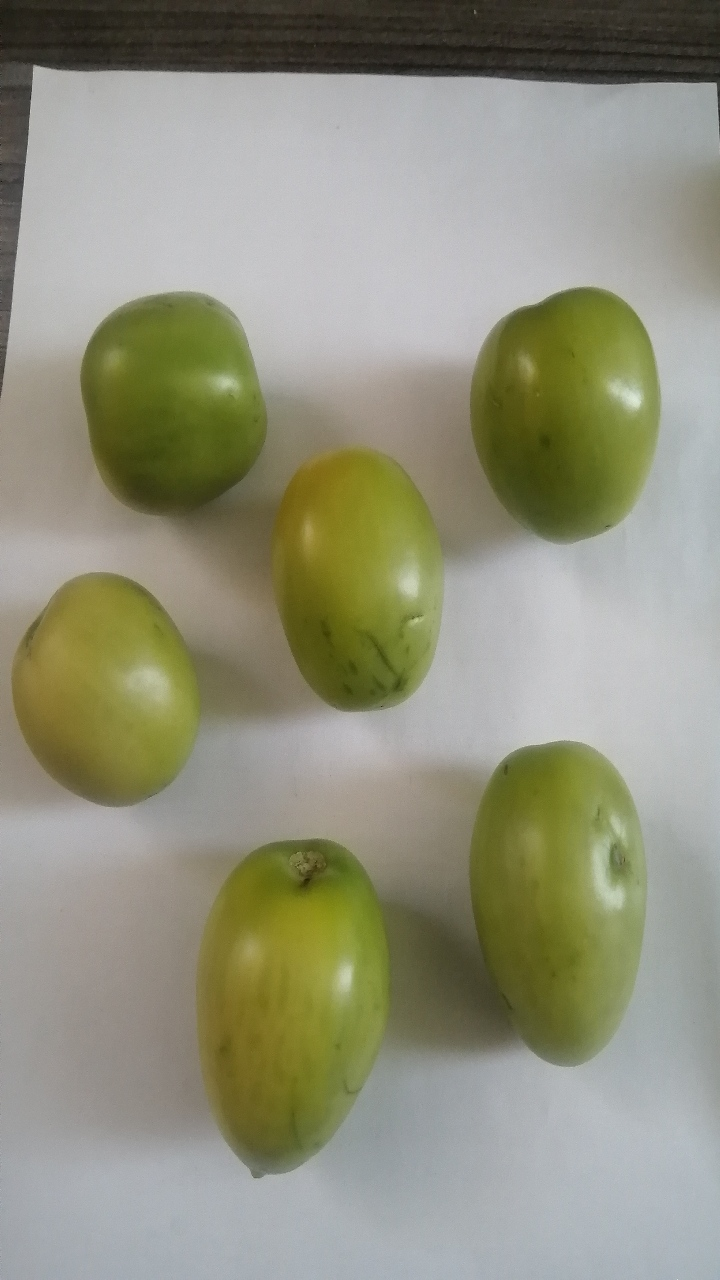tomateVerde: (183, 825, 406, 1214), (451, 735, 669, 1103), (466, 249, 680, 582), (257, 408, 461, 737), (63, 237, 281, 532), (11, 532, 208, 829)
